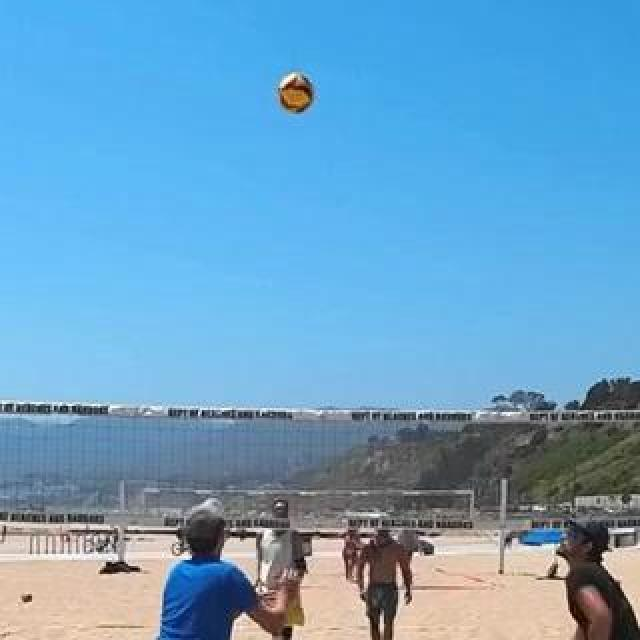volleyball: (280, 75, 318, 113), (22, 592, 32, 602)
